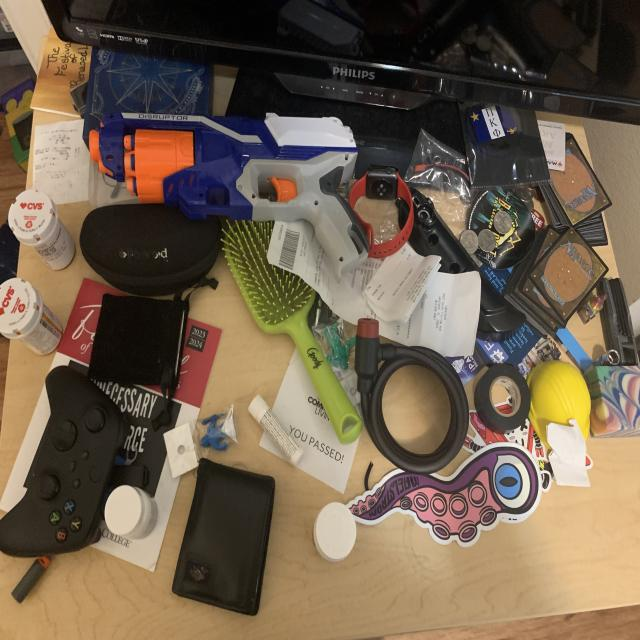nerf-maverik: (80, 93, 377, 289)
